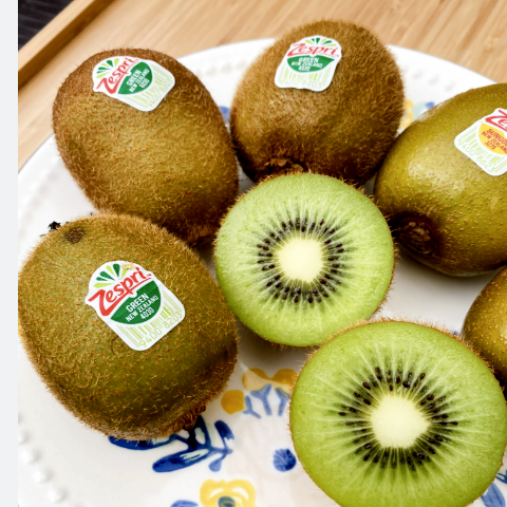kiwi: (7, 196, 265, 438), (53, 26, 235, 258), (218, 14, 422, 196)
